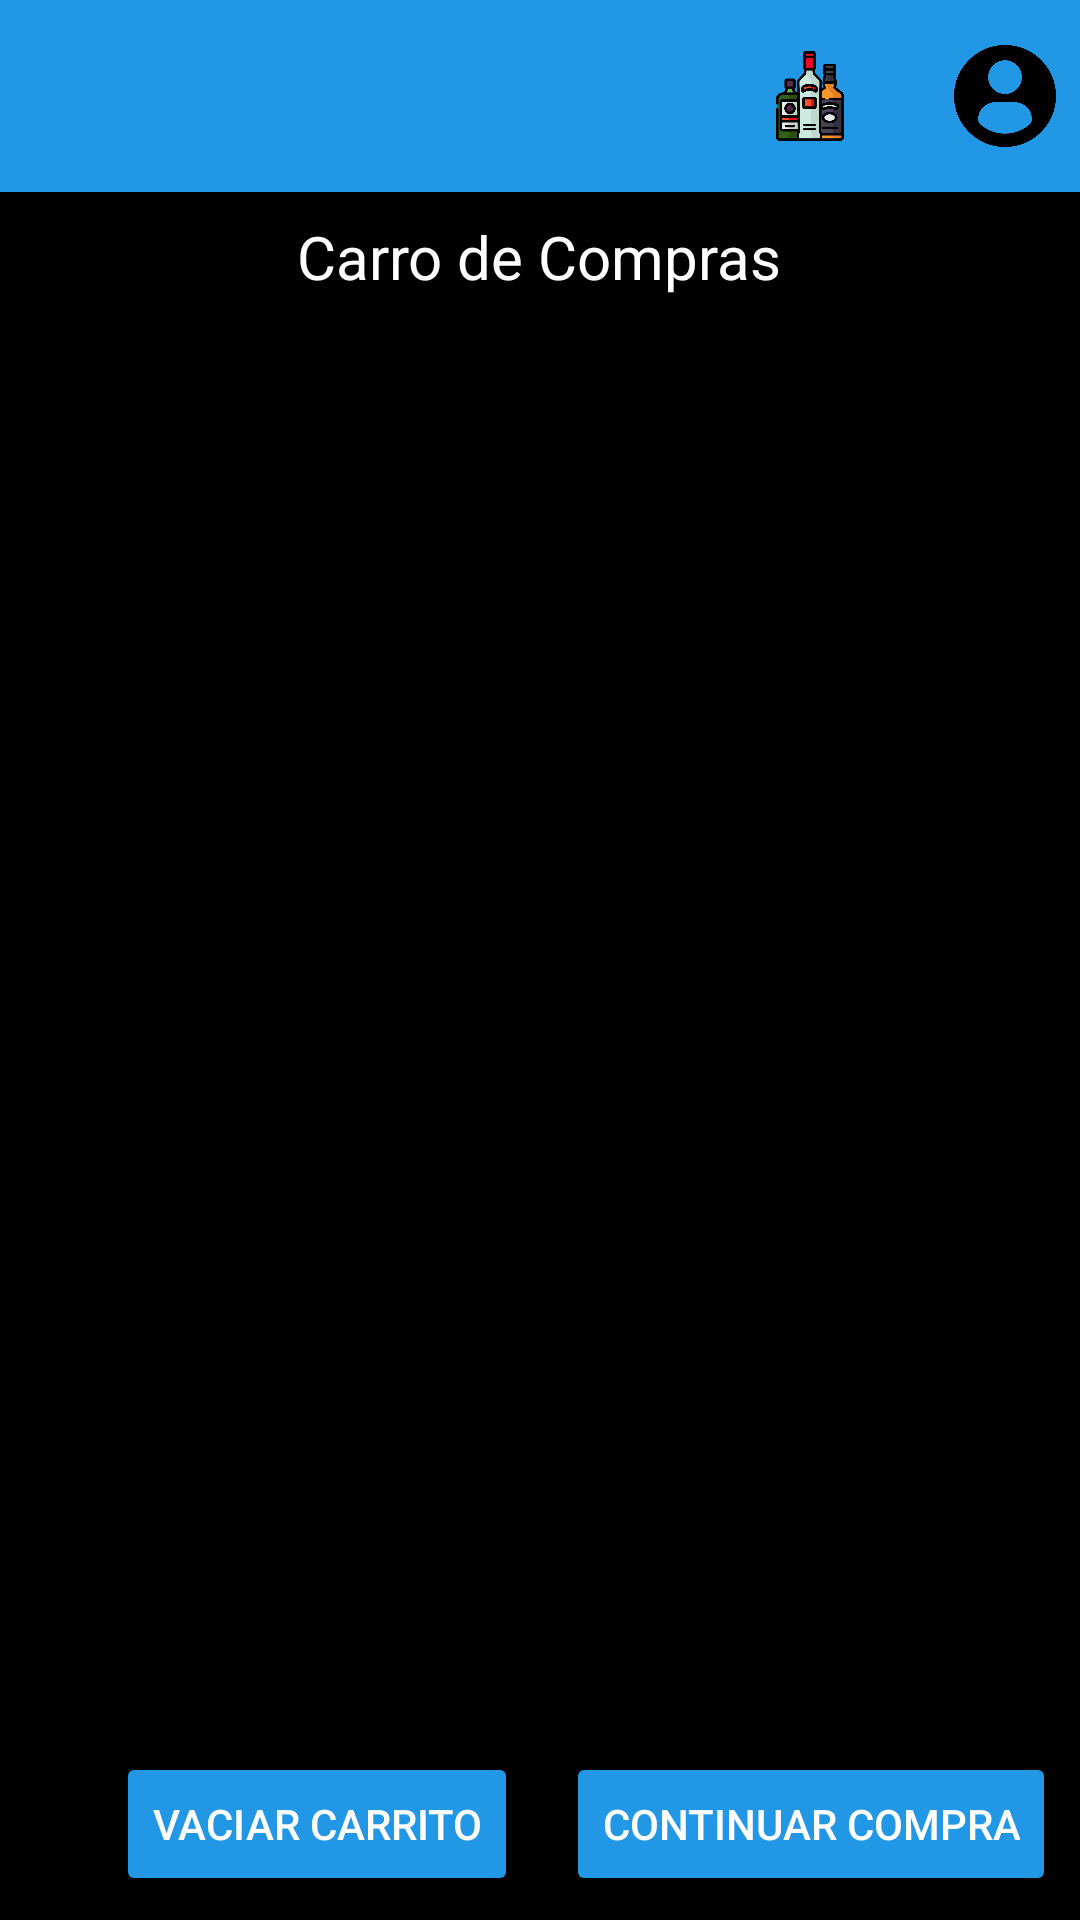

Named icons in this screenshot (1080w x 1920h) and their centers, point (x, y):
Icono de usuario: point (1005, 96)
